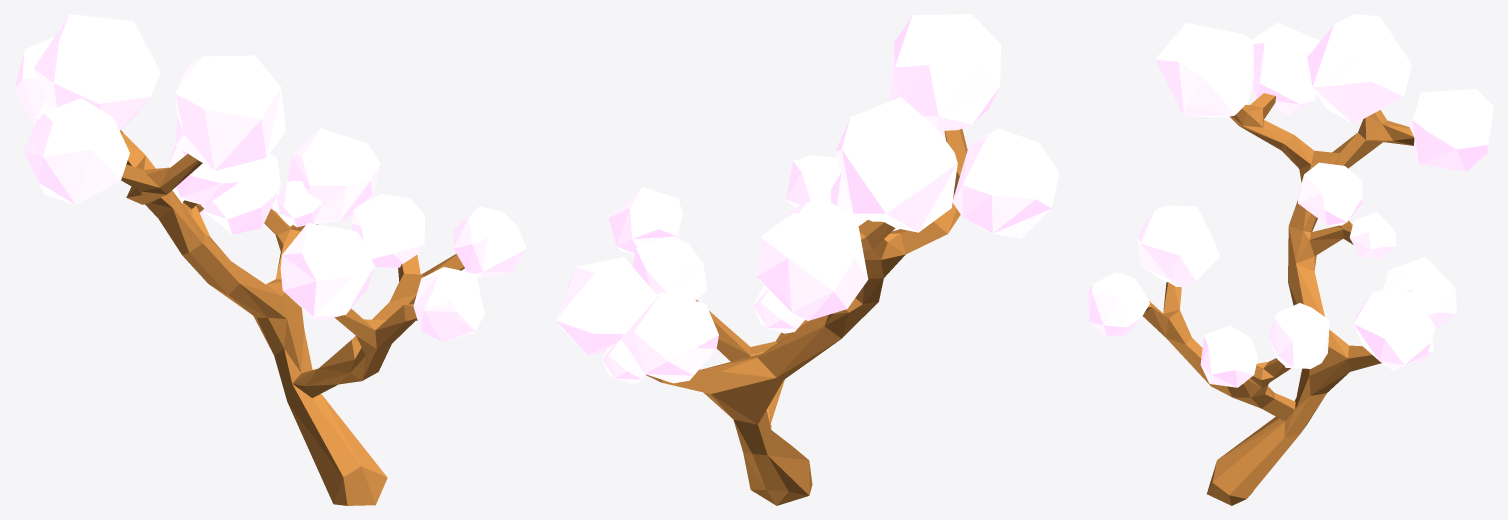
The model's file is Tree.fbx.
The picture shows the model from 3 angles, left to right: view 1: azimuth 30°, elevation 25°; view 2: azimuth 150°, elevation 25°; view 3: azimuth 270°, elevation 25°; orthographic projection. The views are drawn at different scales.
Parts seen in each view (by area): view 1: Cube, Icosphere, Icosphere.002, Icosphere.001, Icosphere.010, Icosphere.005, Icosphere.011, Icosphere.012, Icosphere.013, Icosphere.004, Icosphere.007, Icosphere.003 (+1 smaller); view 2: Cube, Icosphere.002, Icosphere, Icosphere.003, Icosphere.001, Icosphere.004, Icosphere.005, Icosphere.012, Icosphere.013, Icosphere.011, Icosphere.006, Icosphere.009 (+2 smaller); view 3: Cube, Icosphere.002, Icosphere, Icosphere.003, Icosphere.010, Icosphere.005, Icosphere.001, Icosphere.012, Icosphere.007, Icosphere.011, Icosphere.013, Icosphere.004 (+1 smaller).
Boxes of the visible parts, x1,y1,x2,y2 form: Cube: (120,130,464,505); Icosphere: (175,55,285,170); Icosphere.002: (33,14,160,130); Icosphere.001: (23,98,129,204); Icosphere.010: (280,222,373,321); Icosphere.005: (287,128,380,223); Icosphere.011: (413,267,484,341); Icosphere.012: (352,194,424,267); Icosphere.013: (453,206,526,277); Icosphere.004: (204,154,280,234); Icosphere.007: (168,146,243,205); Icosphere.003: (14,36,54,125); Cube: (646,129,967,505); Icosphere.002: (835,97,957,232); Icosphere: (888,14,1001,135); Icosphere.003: (757,212,868,320); Icosphere.001: (952,128,1059,238); Icosphere.004: (621,292,718,383); Icosphere.005: (555,257,655,354); Icosphere.012: (632,236,707,300); Icosphere.013: (608,187,682,254); Icosphere.011: (786,155,840,208); Icosphere.006: (752,285,804,333); Icosphere.009: (602,340,645,383); Cube: (1143,93,1414,505); Icosphere.002: (1307,14,1411,123); Icosphere: (1155,22,1254,117); Icosphere.003: (1409,89,1493,171); Icosphere.010: (1137,205,1219,287); Icosphere.005: (1353,289,1435,371); Icosphere.001: (1252,22,1319,115); Icosphere.012: (1268,303,1329,368); Icosphere.007: (1298,162,1362,225); Icosphere.011: (1088,272,1149,336); Icosphere.013: (1200,325,1257,387); Icosphere.004: (1383,257,1456,330).
Bounding box in the file's own units: 589 × 603 × 538.
